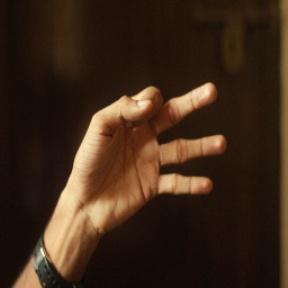K: (68, 80, 228, 222)
